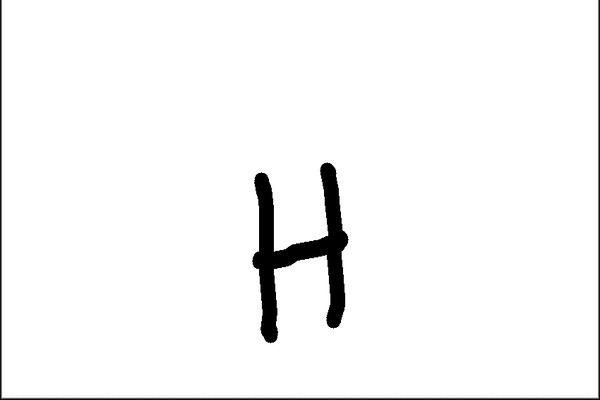H: (245, 160, 365, 344)
